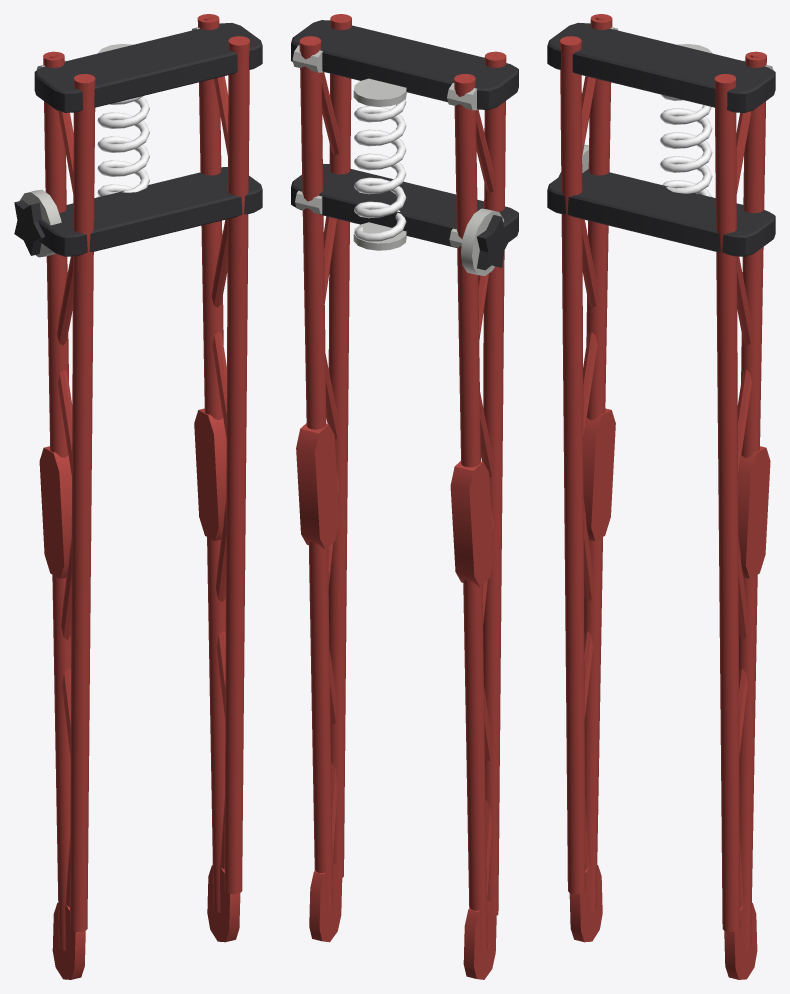
The model's file is chopper_girder_upper.glb.
The picture shows the model from 3 angles, left to right: view 1: azimuth 30°, elevation 25°; view 2: azimuth 150°, elevation 25°; view 3: azimuth 330°, elevation 25°; orthographic projection.
Parts seen in each view (by area): view 1: lod0; view 2: lod0; view 3: lod0.
Part boxes in pixels (x1,y1,x2,y2): lod0: (14,14,262,979); lod0: (291,14,518,979); lod0: (547,14,775,979).
Size of what is drawn, in the model's own units: 0.245 by 1.02 by 0.115.
